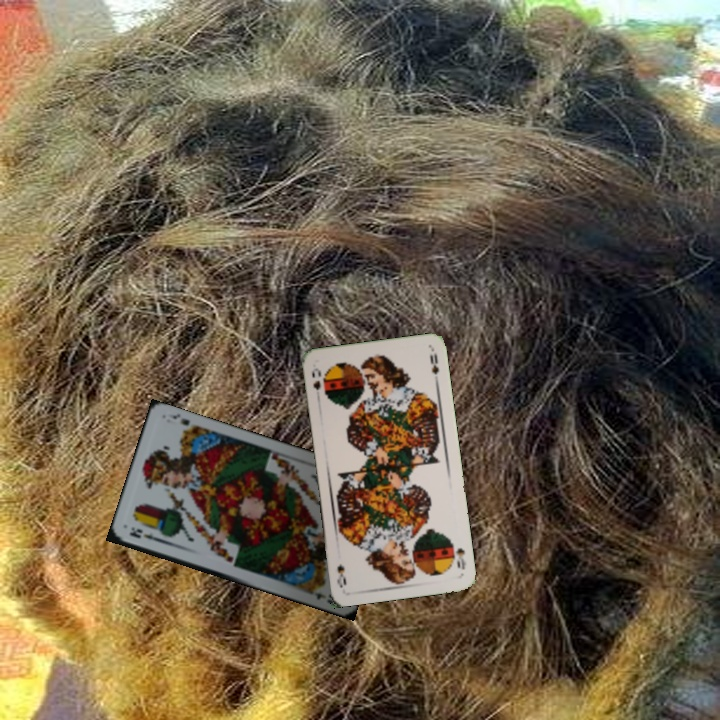EK: (125, 523, 164, 545)
SO: (448, 538, 469, 572), (308, 364, 324, 393)
